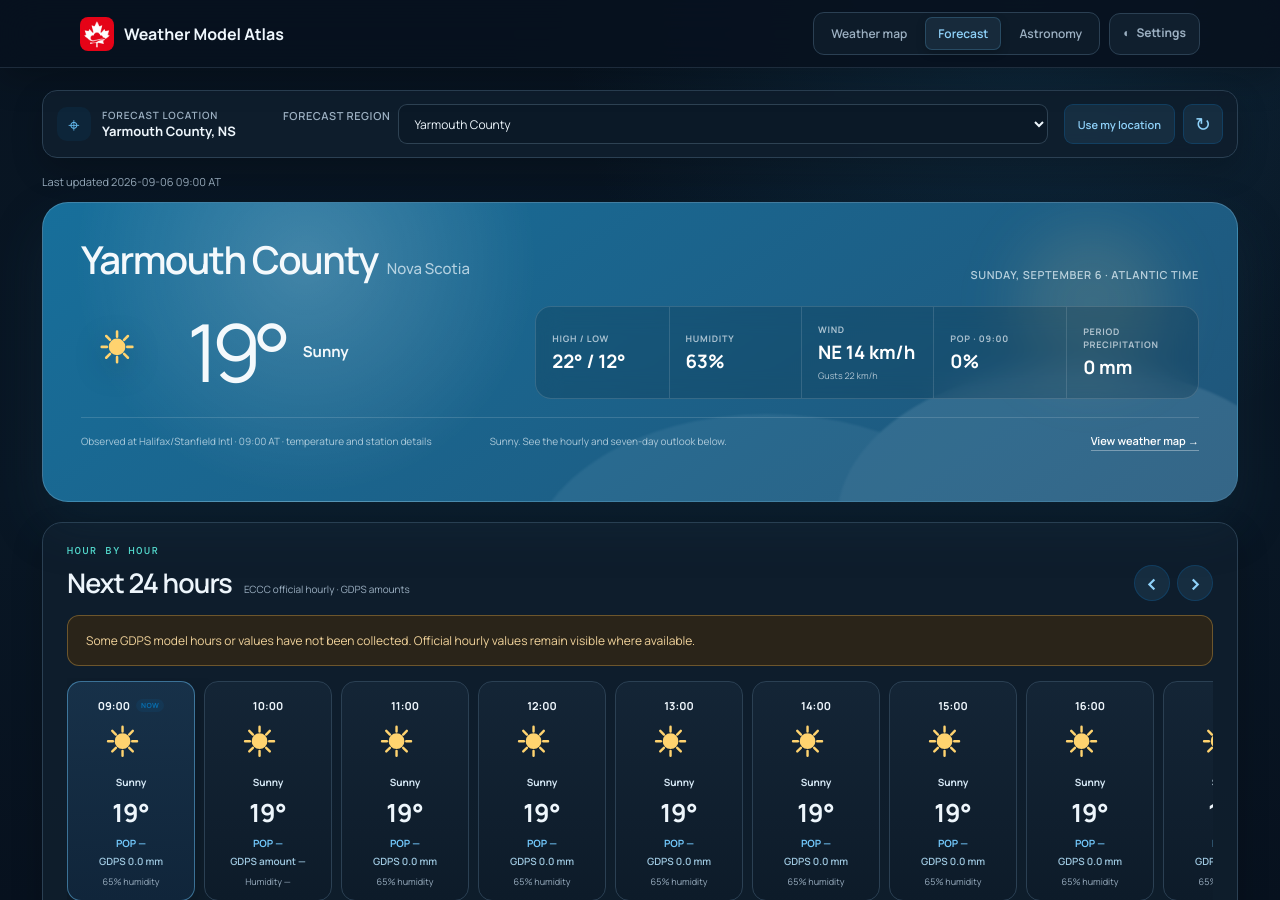
Test: forecast page › selects a region from the URL and clears the old hourly data on change
Select "Halifax Metro" in the dropdown labelled "Forecast region": [723, 124] box [398, 104, 1048, 144]
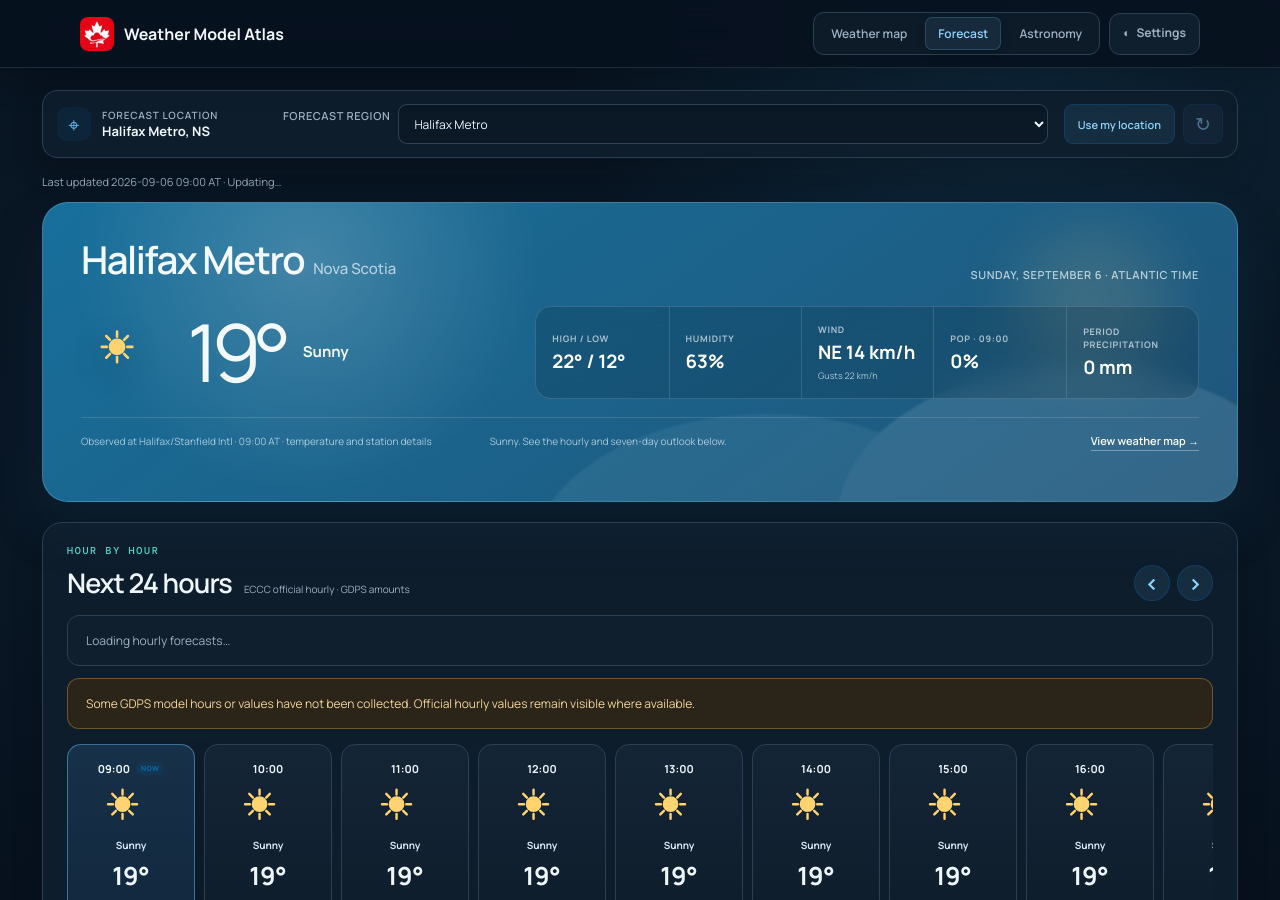
expect the text "Loading hourly forecasts…" is shown: met, box [67, 614, 1213, 666]
